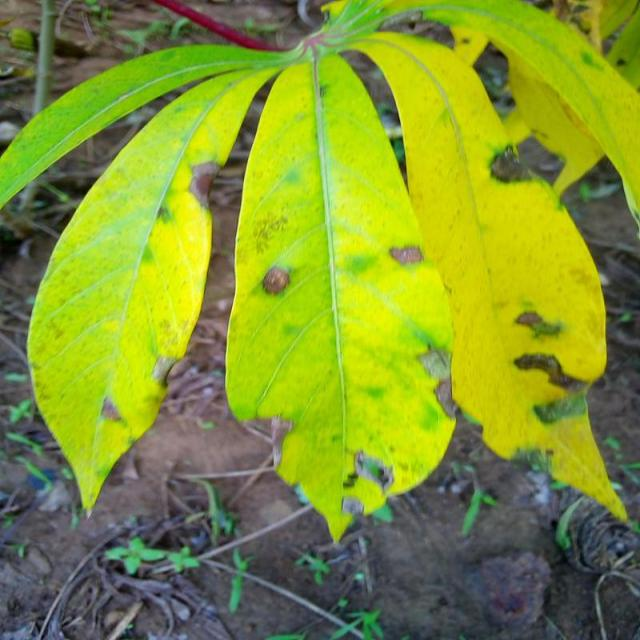cassava leaf: (1, 0, 638, 544), (333, 26, 629, 524), (24, 50, 291, 519), (223, 46, 457, 544), (319, 0, 639, 240)
